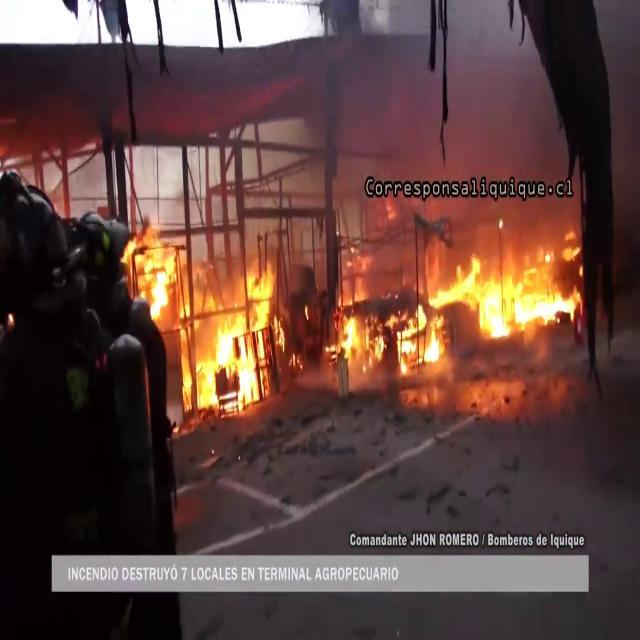Fire: (182, 258, 282, 413), (439, 240, 583, 342), (329, 278, 447, 378), (126, 225, 178, 322)
Smoke: (313, 3, 575, 255)
